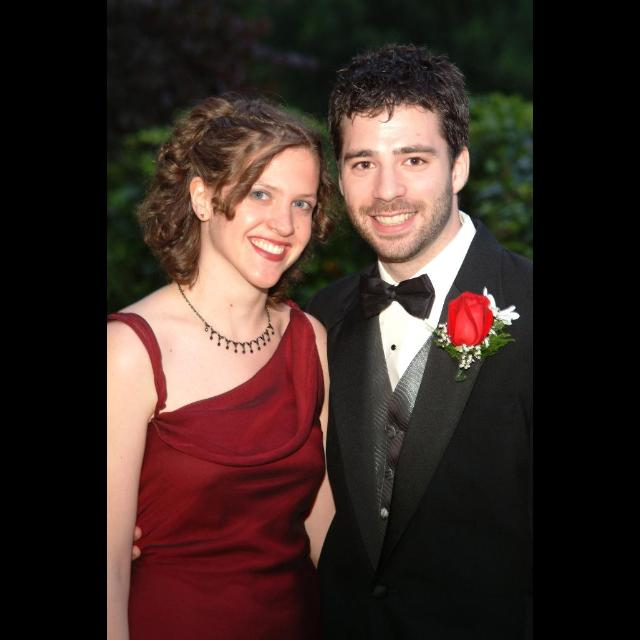Flower: (451, 297, 501, 355), (483, 284, 522, 326)
